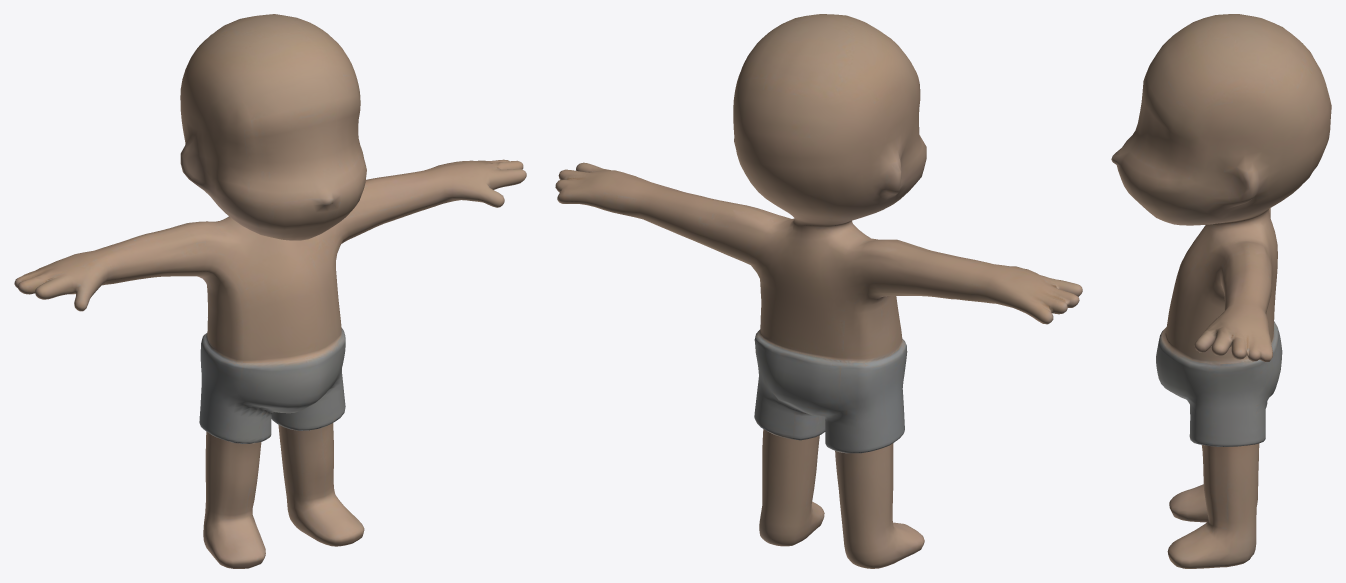
File: explorer_clone.fbx
3 views of the same model, side by side, from view 1: azimuth 30°, elevation 25°; view 2: azimuth 150°, elevation 25°; view 3: azimuth 270°, elevation 25° (orthographic). The views are drawn at different scales.
Parts seen in each view (by area): view 1: tripo_node_01f3b7d8; view 2: tripo_node_01f3b7d8; view 3: tripo_node_01f3b7d8.
Boxes of the visible parts, x1,y1,x2,y2 form: tripo_node_01f3b7d8: (14,14,526,568); tripo_node_01f3b7d8: (555,14,1082,568); tripo_node_01f3b7d8: (1111,14,1331,568).
Bounding box in the file's own units: 99.95 × 37.69 × 97.24.
1 material, 1 textured.
